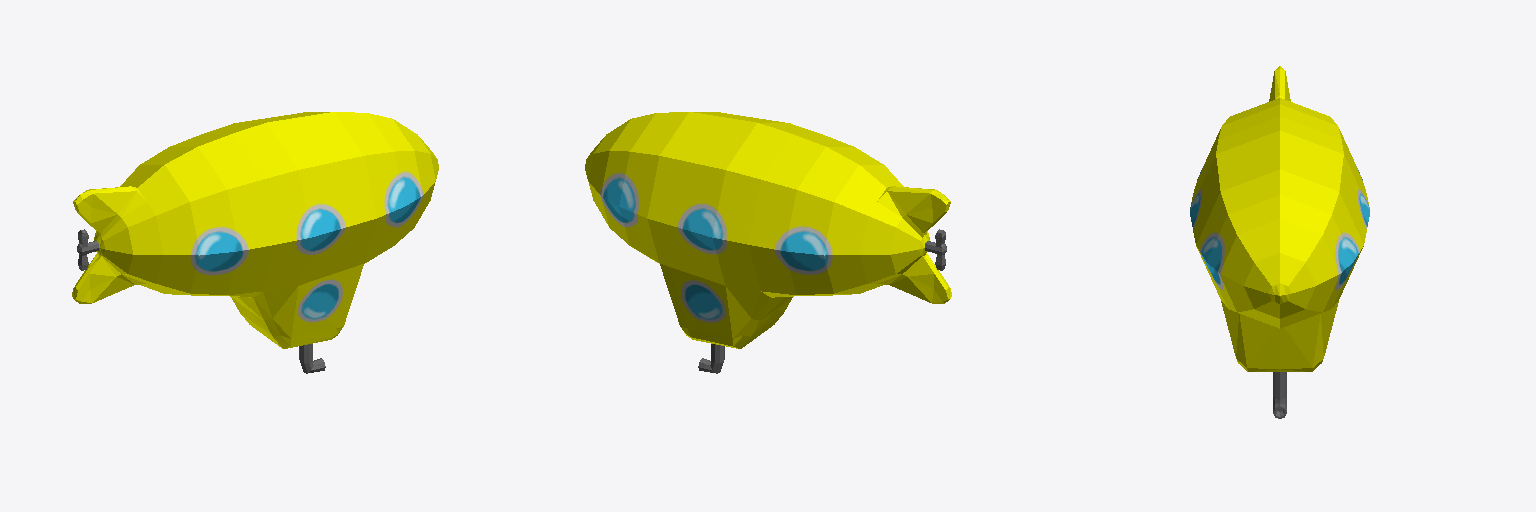
3 renders of one model, left to right at view 1: azimuth 30°, elevation 25°; view 2: azimuth 150°, elevation 25°; view 3: azimuth 270°, elevation 25°, orthographic.
Parts seen in each view (by area): view 1: Circle; view 2: Circle; view 3: Circle.
Boxes of the visible parts, x1=… form: Circle: x1=72, y1=112, x2=438, y2=373; Circle: x1=585, y1=112, x2=951, y2=373; Circle: x1=1190, y1=66, x2=1369, y2=418.
Bounding box in the file's own units: 1.07 × 0.7336 × 0.4594.
Materials: 1 (1 with a texture image).